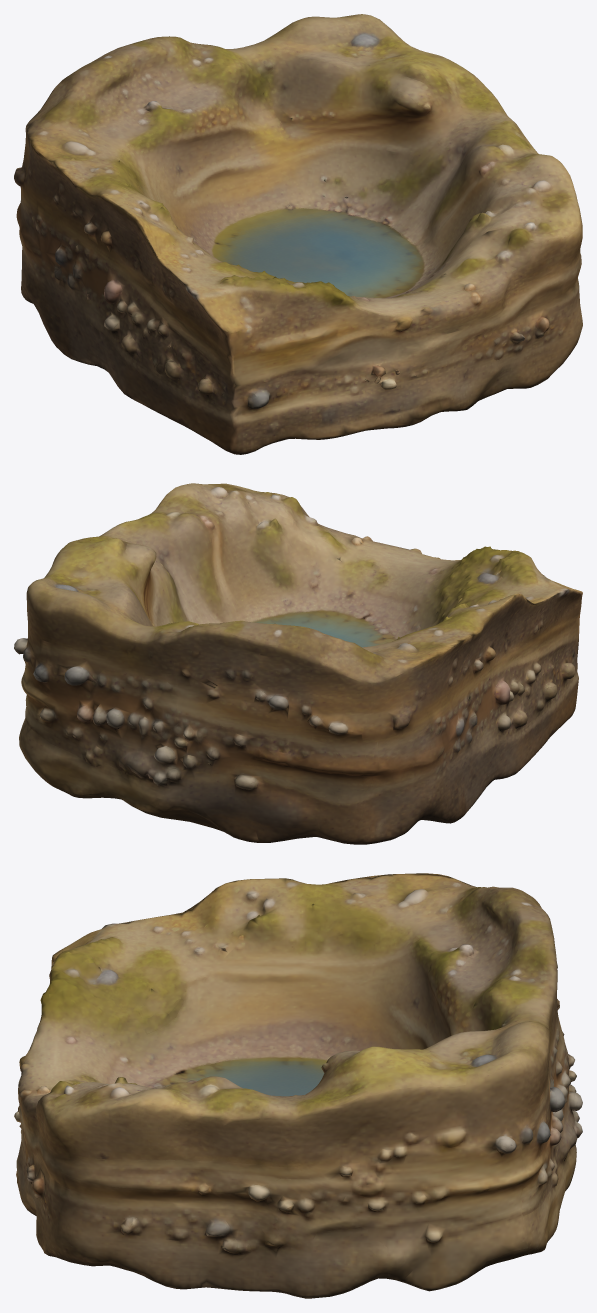
3 views of the same model, one above another, from view 1: azimuth 30°, elevation 25°; view 2: azimuth 150°, elevation 25°; view 3: azimuth 270°, elevation 25° (orthographic). The views are drawn at different scales.
Visible parts, largest first — view 1: world; view 2: world; view 3: world.
Boxes of the visible parts, box(x1,y1,x2,y2) form: world: box(14, 14, 582, 454); world: box(14, 483, 582, 844); world: box(14, 873, 582, 1298).
Bounding box in the file's own units: 27.93 × 14.91 × 30.
Materials: 1 (1 with a texture image).
